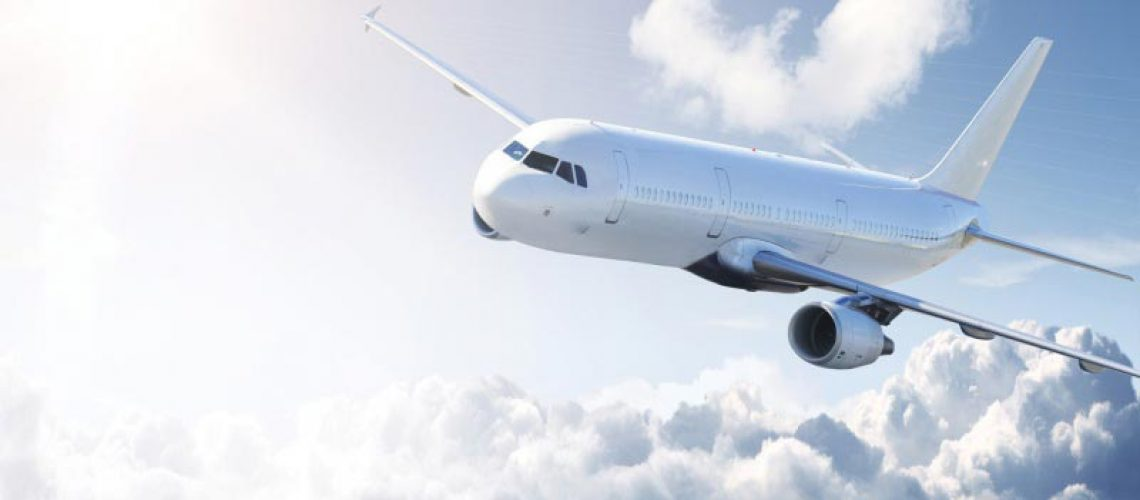airplane: (357, 4, 1140, 381)
